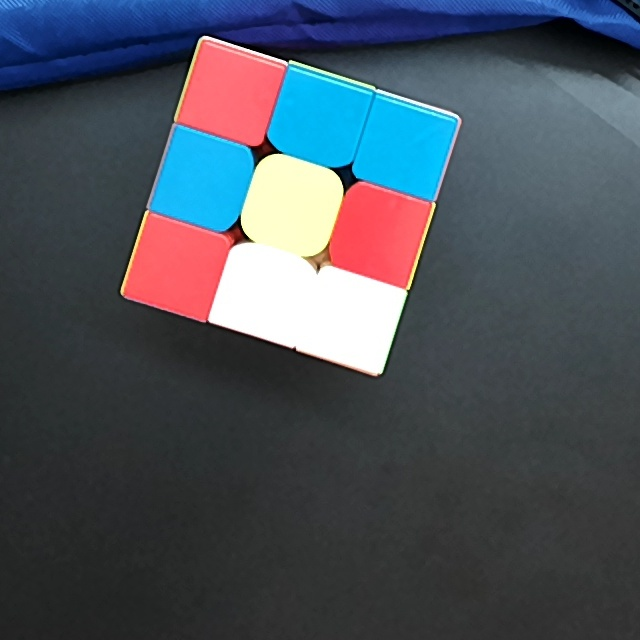tile: (144, 236, 212, 303), (257, 172, 325, 238), (229, 258, 296, 324), (286, 87, 353, 152), (372, 114, 439, 178), (318, 286, 386, 348), (172, 150, 238, 213), (344, 205, 412, 266), (196, 65, 264, 125)
